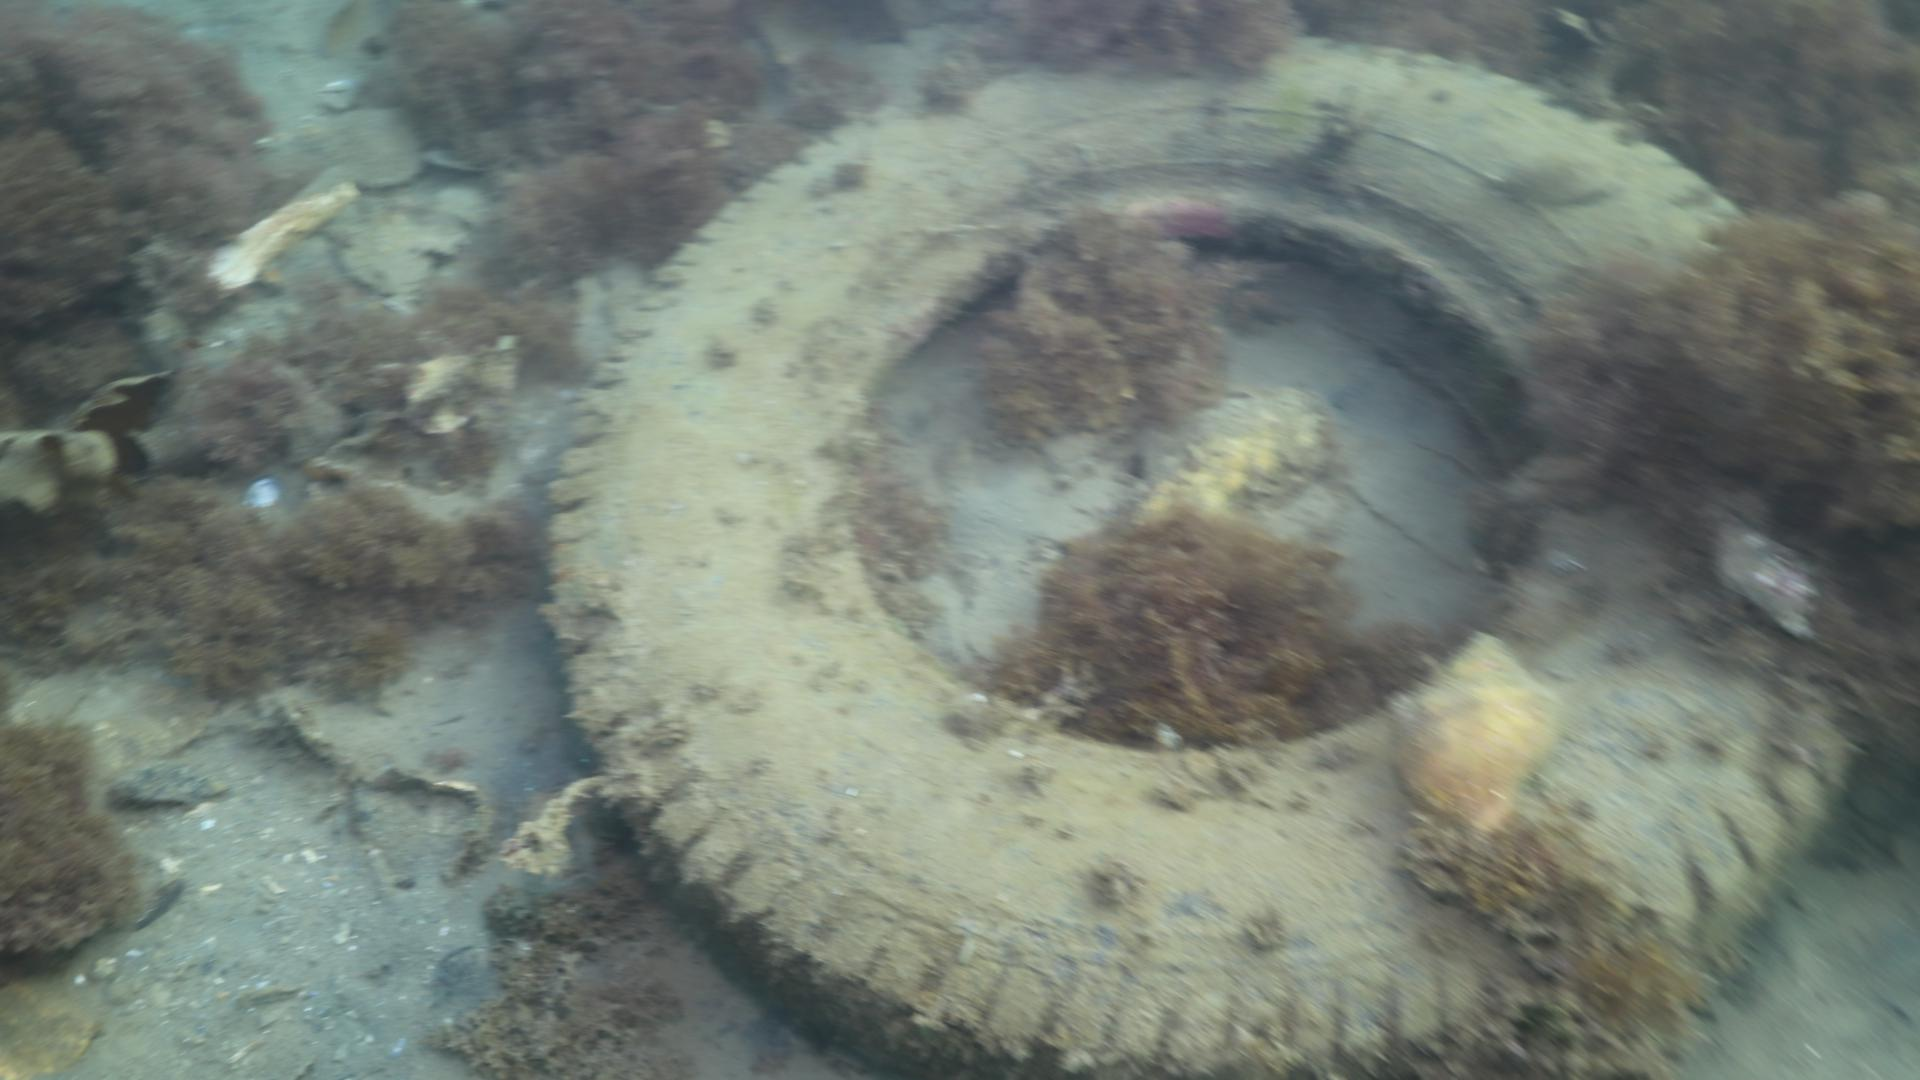tire: (541, 29, 1869, 1080)
